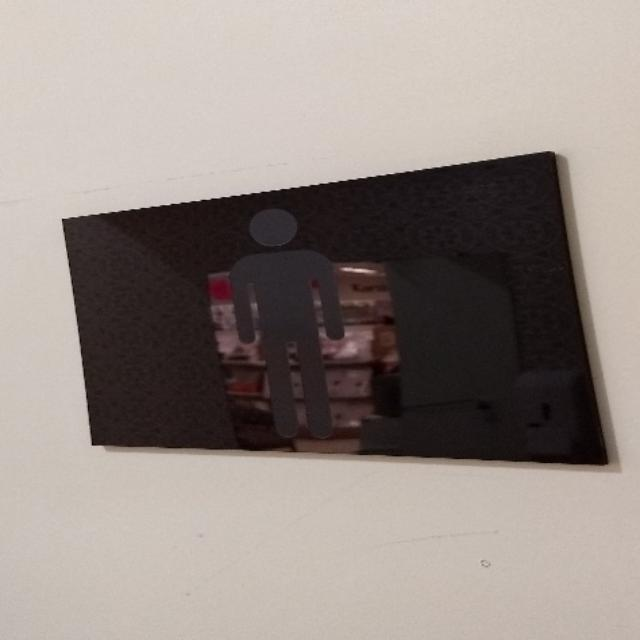wc nam: (63, 151, 606, 462)
